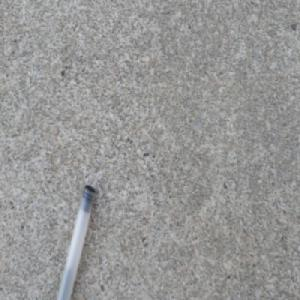Pen: (54, 182, 96, 299)
